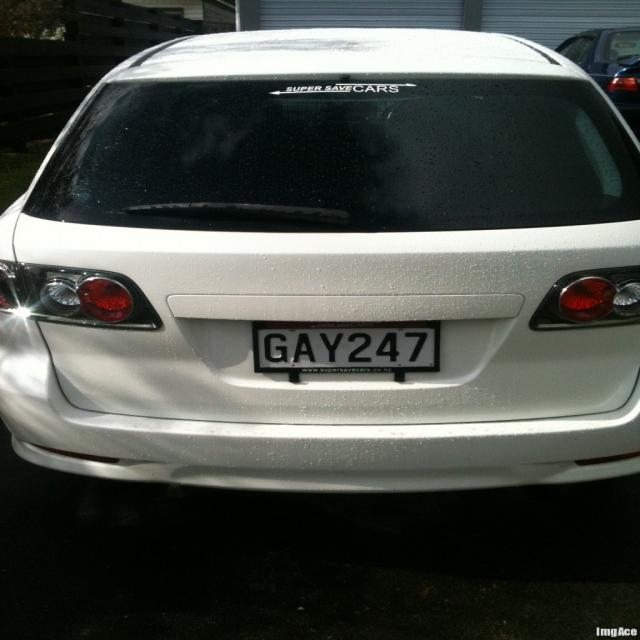Number-Plate: (260, 329, 438, 372)
